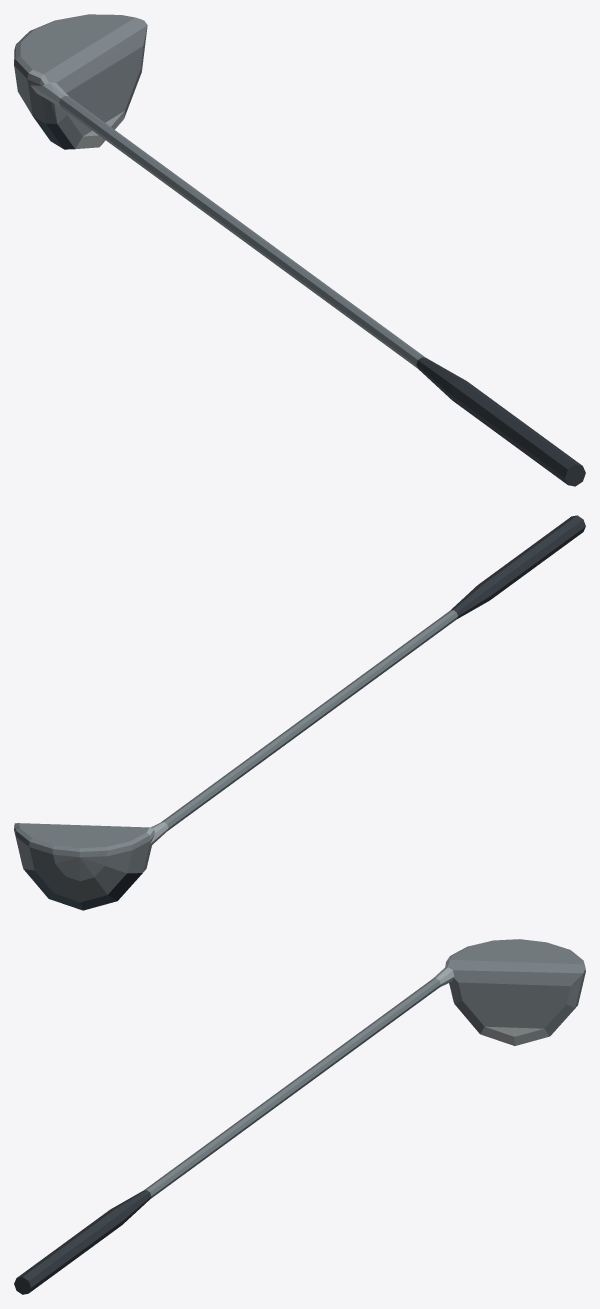
File: golf-club-driver.glb
The picture shows the model from 3 angles, top to bottom: view 1: azimuth 30°, elevation 25°; view 2: azimuth 150°, elevation 25°; view 3: azimuth 330°, elevation 25°; orthographic projection. The views are drawn at different scales.
Visible parts, largest first — view 1: EverElms_Driver; view 2: EverElms_Driver; view 3: EverElms_Driver.
Boxes of the visible parts, x1,y1,x2,y2 form: EverElms_Driver: (14, 14, 585, 486); EverElms_Driver: (14, 515, 585, 910); EverElms_Driver: (14, 939, 585, 1294).
Bounding box in the file's own units: 0.3292 × 0.2245 × 2.34.
